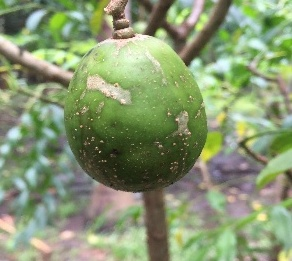Coc: (61, 34, 207, 192)
